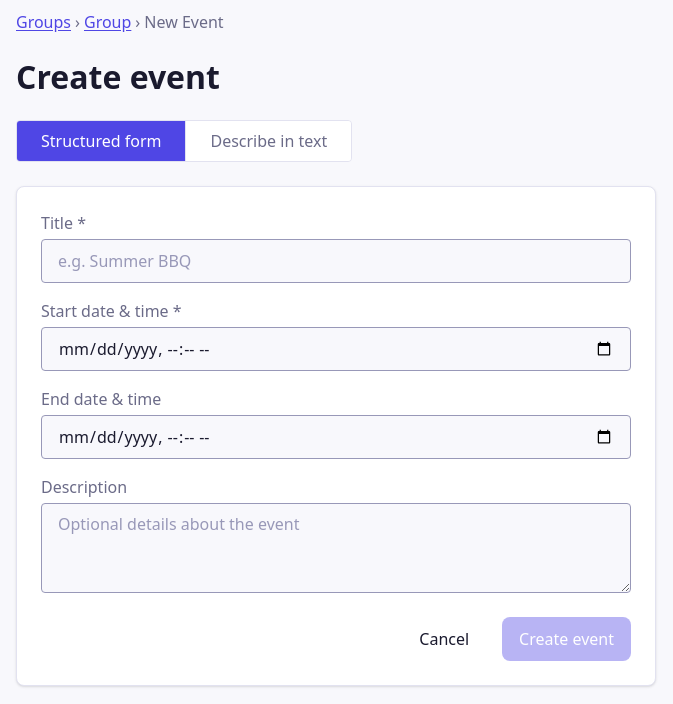
Test case: EventCreate › shows capture issues when the capture pipeline returns a draft
Click the tab "Describe in text": click(269, 141) x1=186 y1=121 x2=351 y2=161
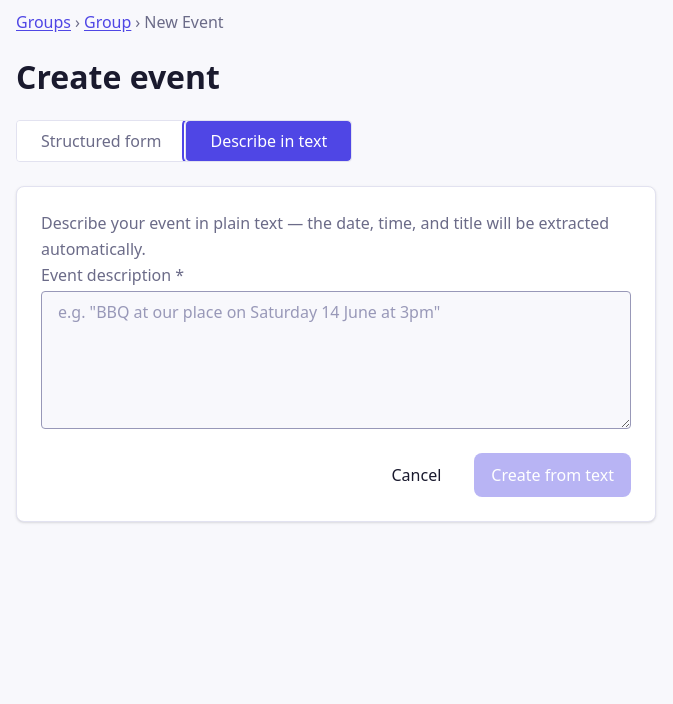
In the text box labelled "Event description *": (336, 360) x1=41 y1=291 x2=631 y2=429, type "Something vague"
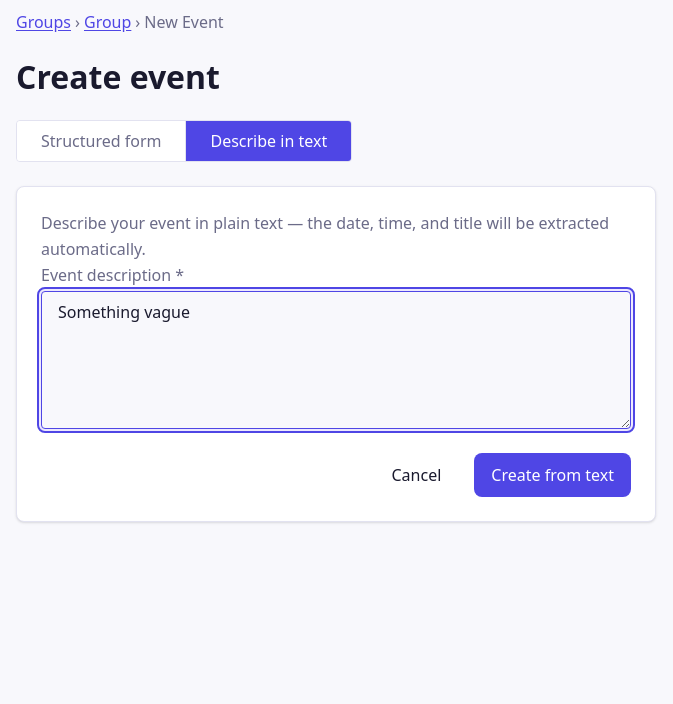
Click the button "Create from text": click(553, 475) x1=474 y1=453 x2=631 y2=497
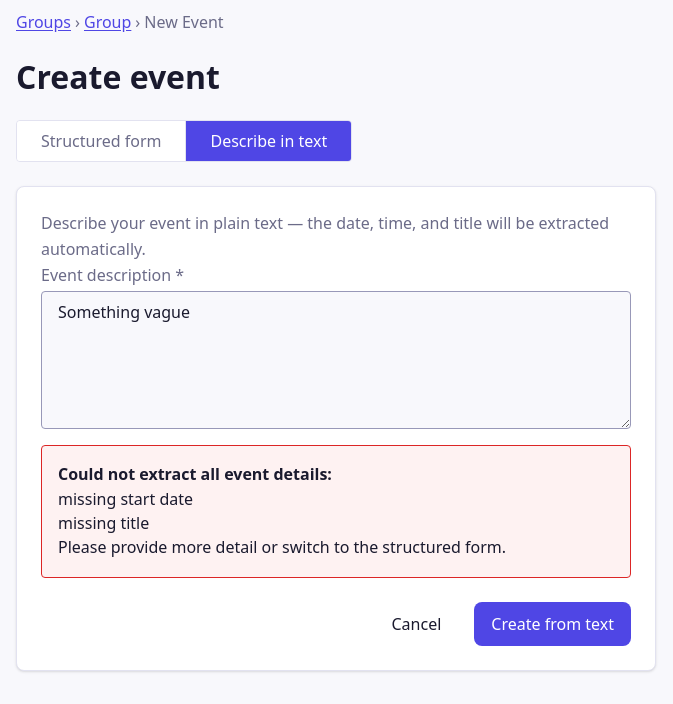
Result: the message is shown at x1=41 y1=445 x2=631 y2=578
Result: the list item "missing start date" is shown at x1=58 y1=488 x2=193 y2=510
Result: the list item "missing title" is shown at x1=58 y1=512 x2=149 y2=534
